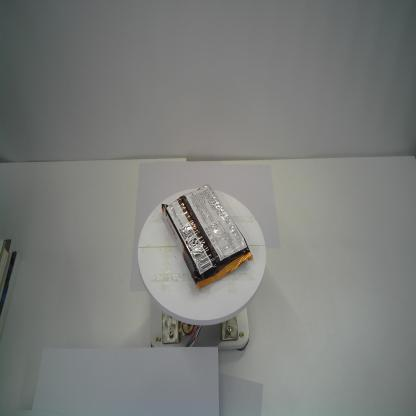Dessert: (163, 183, 255, 292)
